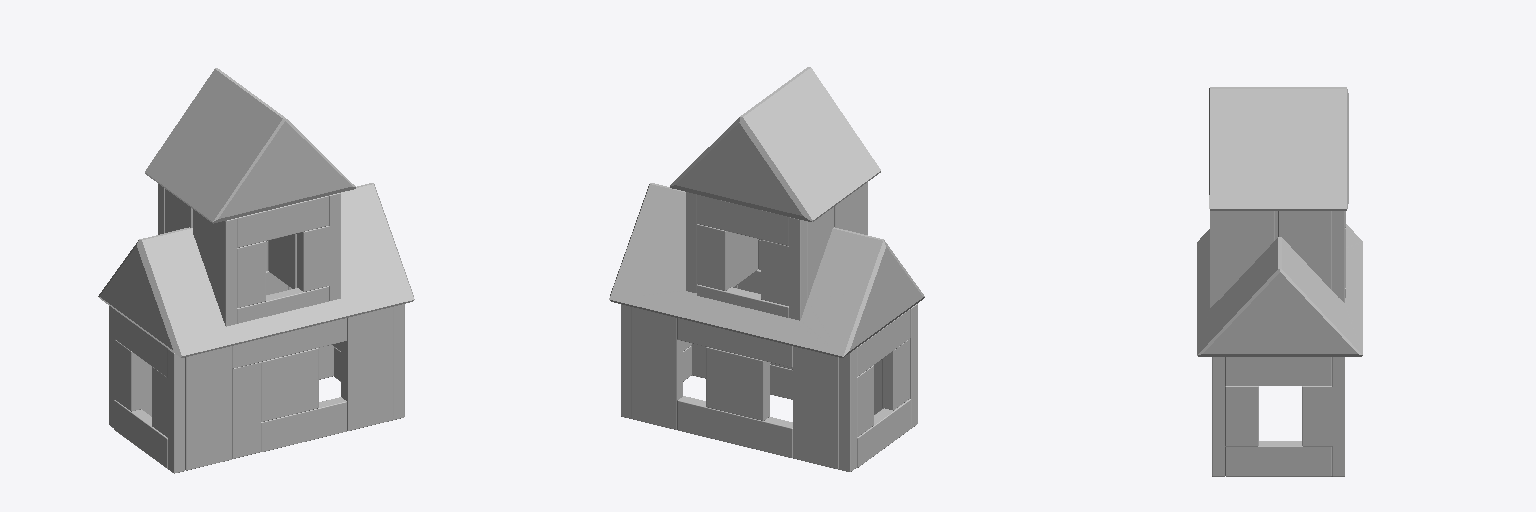
The model's file is house2m.obj.
The picture shows the model from 3 angles: view 1: azimuth 30°, elevation 25°; view 2: azimuth 150°, elevation 25°; view 3: azimuth 270°, elevation 25°; orthographic projection.
Visible parts, largest first — view 1: obj_0; view 2: obj_0; view 3: obj_0.
Part boxes in pixels (x1,y1,x2,y2): obj_0: (98,68,414,473); obj_0: (609,67,924,471); obj_0: (1197,87,1362,476).
Bounding box in the file's own units: 41.2 × 54.6 × 24.8.